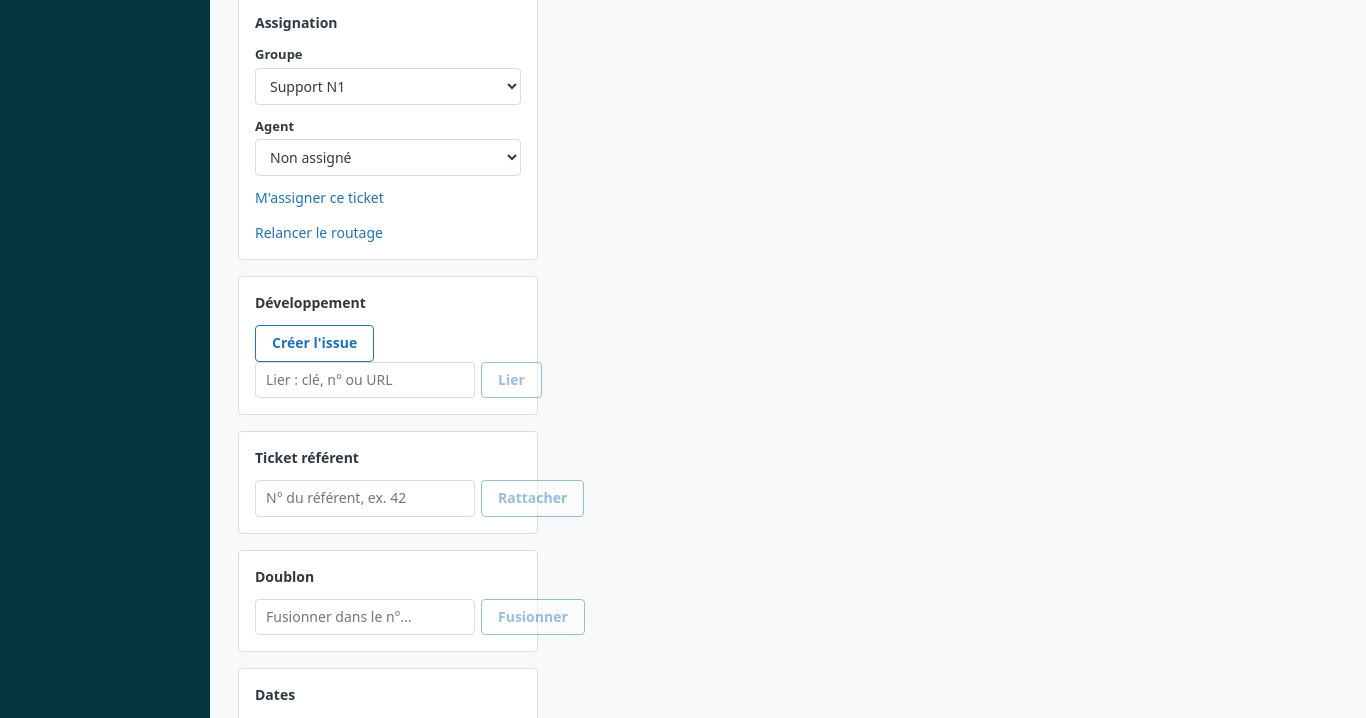
Test: détail d’un ticket › crée une issue depuis le ticket et affiche la version de correction
(page scrolled)
Click the button "Créer l'issue": (315, 344) [255,325,374,362]
(page scrolled)
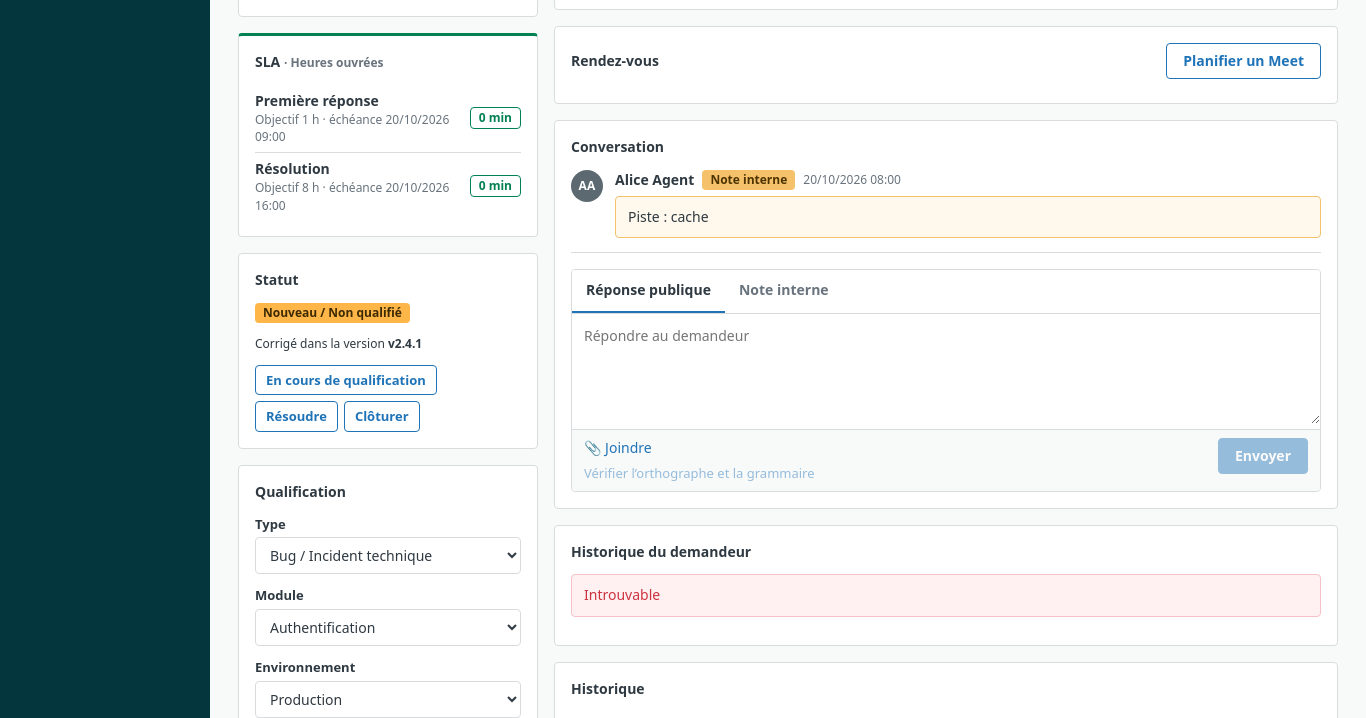
Now the text "v2.4.1" is shown, box [388,335,422,352]
